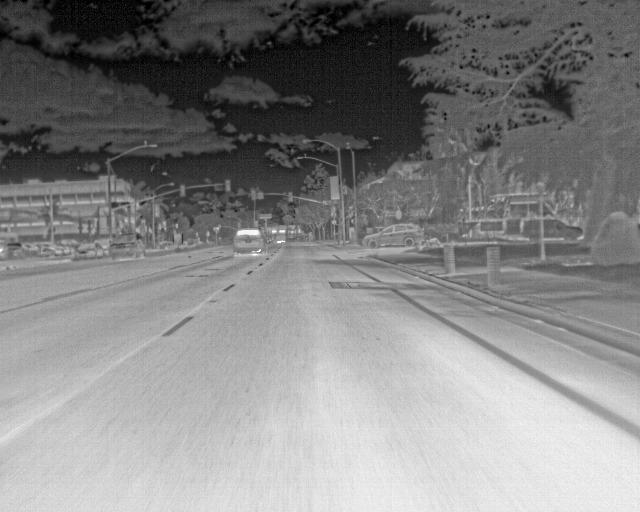car: (362, 223, 424, 250), (523, 219, 583, 242), (108, 232, 147, 260), (233, 228, 267, 257), (71, 243, 105, 261), (0, 242, 23, 259), (35, 241, 55, 256), (21, 243, 39, 257), (52, 245, 70, 256)
light: (180, 185, 185, 197), (251, 190, 256, 200), (288, 192, 293, 202), (226, 180, 230, 192)
sign: (215, 182, 223, 191), (257, 191, 264, 199), (323, 201, 337, 205)
